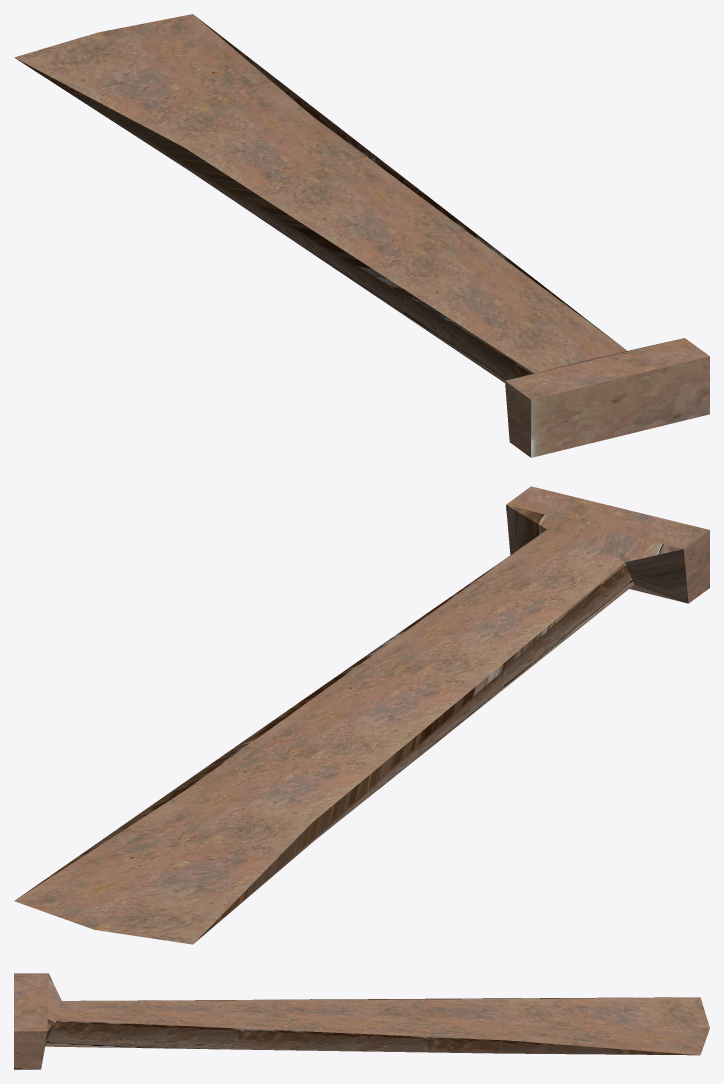
The model's file is chisel.glb.
The picture shows the model from 3 angles, top to bottom: view 1: azimuth 30°, elevation 25°; view 2: azimuth 150°, elevation 25°; view 3: azimuth 270°, elevation 25°; orthographic projection. The views are drawn at different scales.
Visible parts, largest first — view 1: Cube; view 2: Cube; view 3: Cube.
Boxes of the visible parts, x1=… form: Cube: x1=14, y1=14, x2=709, y2=457; Cube: x1=14, y1=486, x2=709, y2=944; Cube: x1=14, y1=973, x2=709, y2=1069.
Size of the model in its own units: 0.6861 by 0.2126 by 3.48.
1 material, 1 textured.
